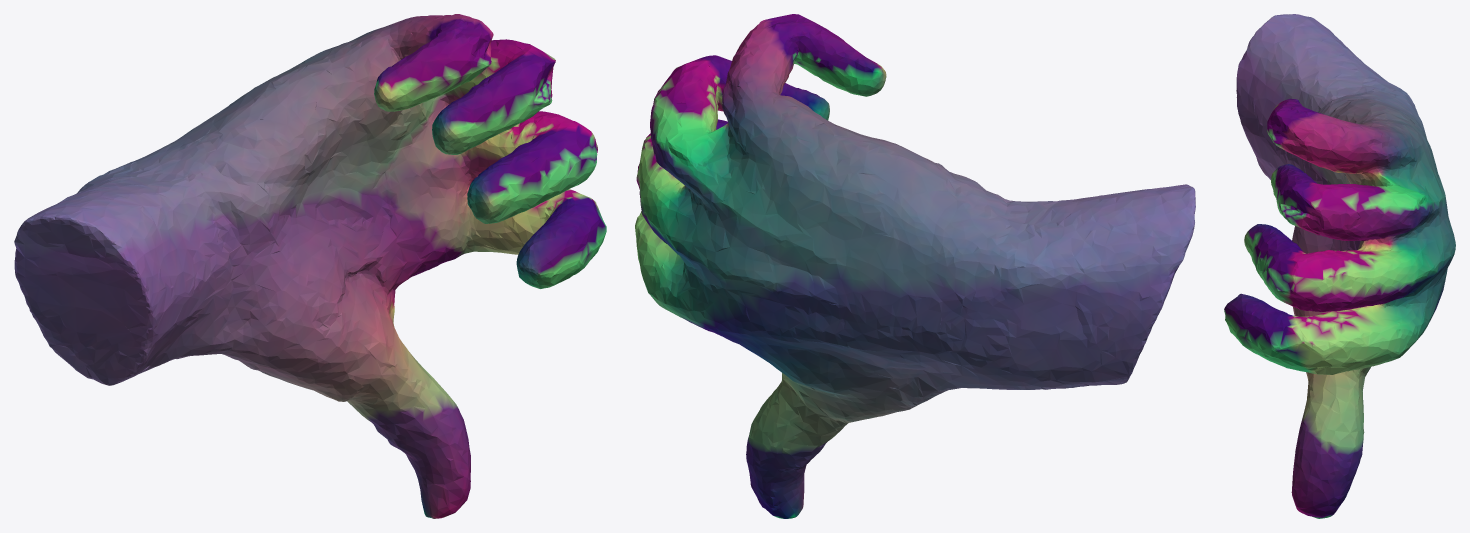
File: hand-10.off.obj
3 views of the same model, side by side, from view 1: azimuth 30°, elevation 25°; view 2: azimuth 150°, elevation 25°; view 3: azimuth 270°, elevation 25° (orthographic). The views are drawn at different scales.
Size of the model in its own units: 1.49 by 1.25 by 0.6353.
